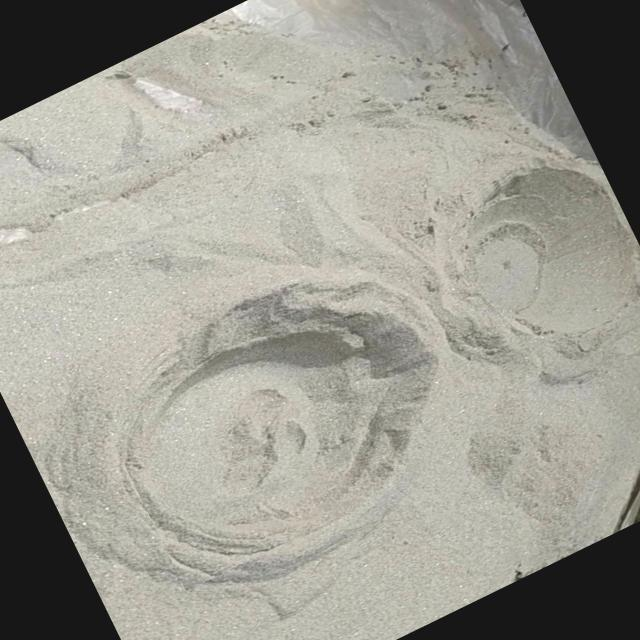C20: (126, 290, 397, 558), (461, 167, 640, 355)
